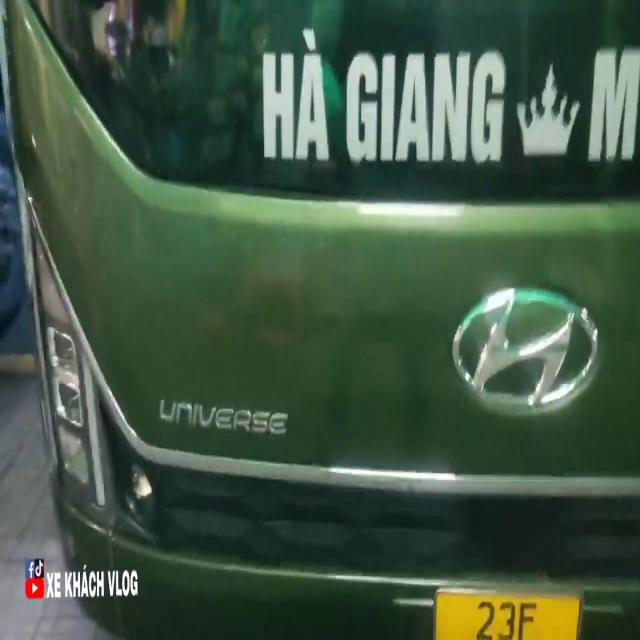bien_vang: (431, 586, 586, 640)
